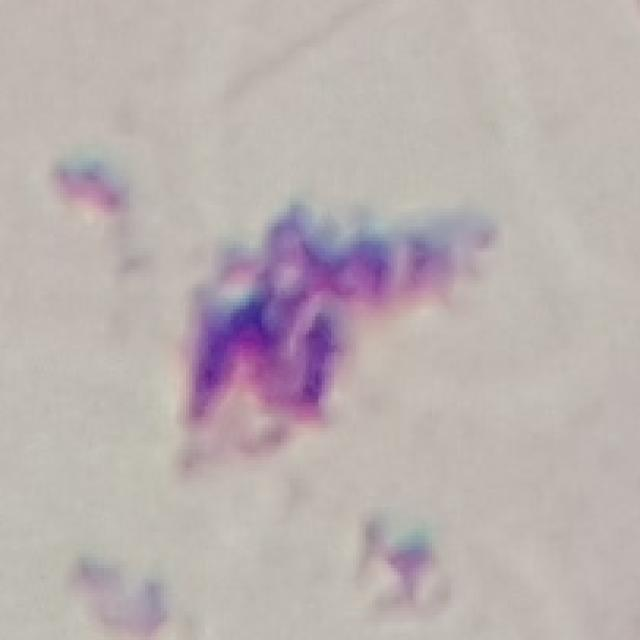non-sperm: (176, 210, 486, 458)
